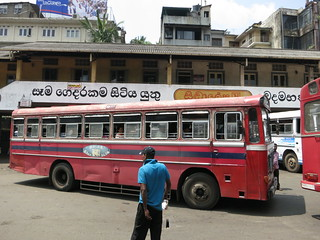bus: (9, 94, 279, 209)
